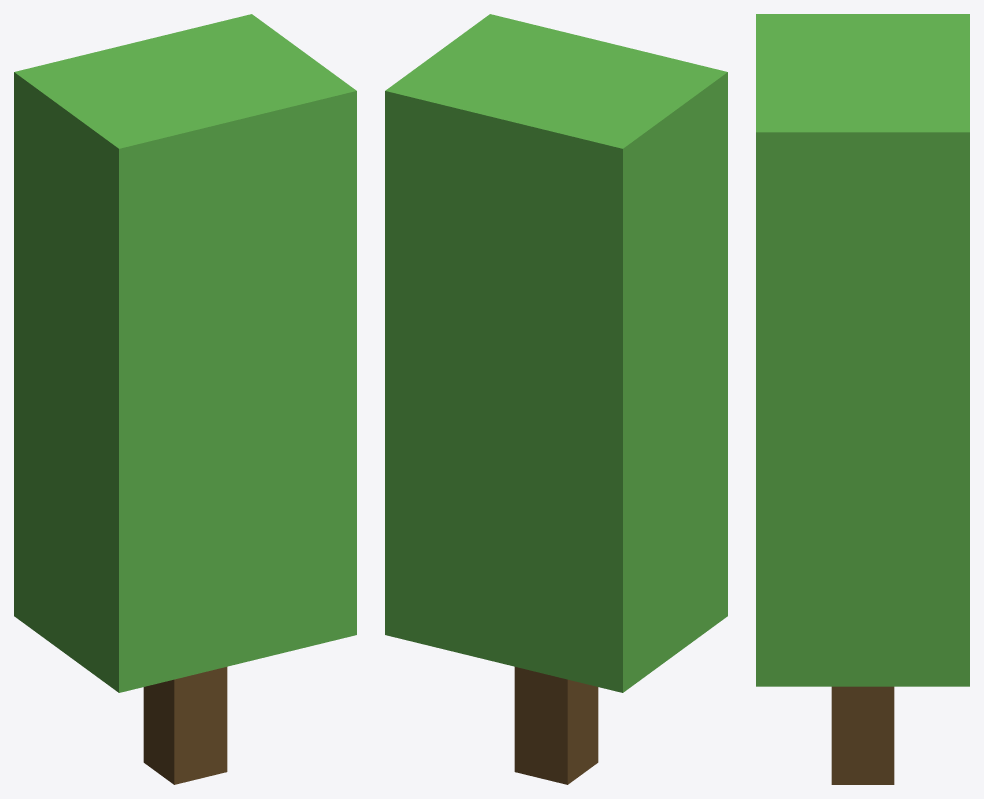
The model's file is Tree_04.fbx.
3 views of the same model, side by side, from view 1: azimuth 30°, elevation 25°; view 2: azimuth 150°, elevation 25°; view 3: azimuth 270°, elevation 25° (orthographic).
Parts seen in each view (by area): view 1: pCube14, pCube15; view 2: pCube14, pCube15; view 3: pCube14, pCube15.
Boxes of the visible parts, box(x1,y1,x2,y2) form: pCube14: box(14, 14, 356, 692); pCube15: box(143, 667, 227, 784); pCube14: box(385, 14, 727, 692); pCube15: box(514, 667, 598, 784); pCube14: box(756, 14, 969, 686); pCube15: box(831, 686, 894, 784).
Size of the model in its own units: 1.11 by 3.06 by 0.8493.
